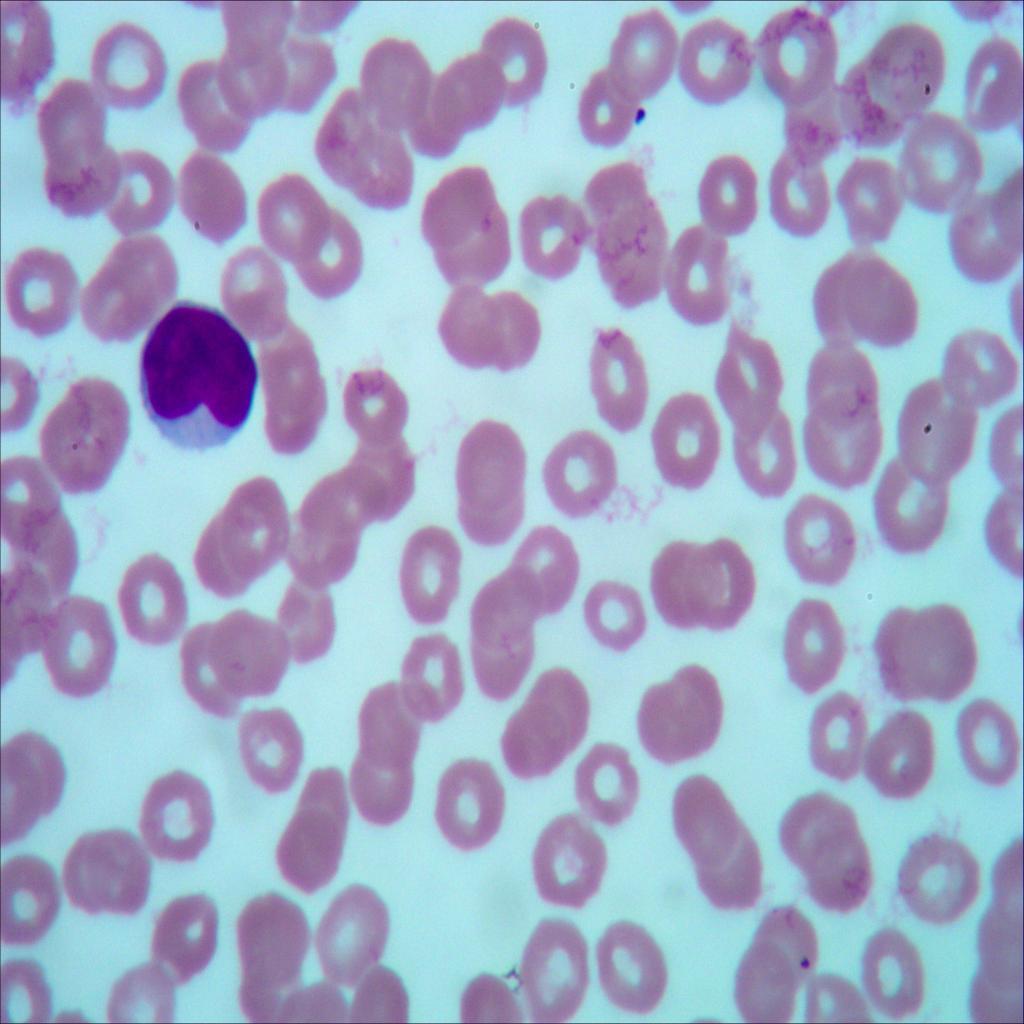Limfoblast: (134, 291, 270, 466)
Platelet: (632, 98, 654, 132)
